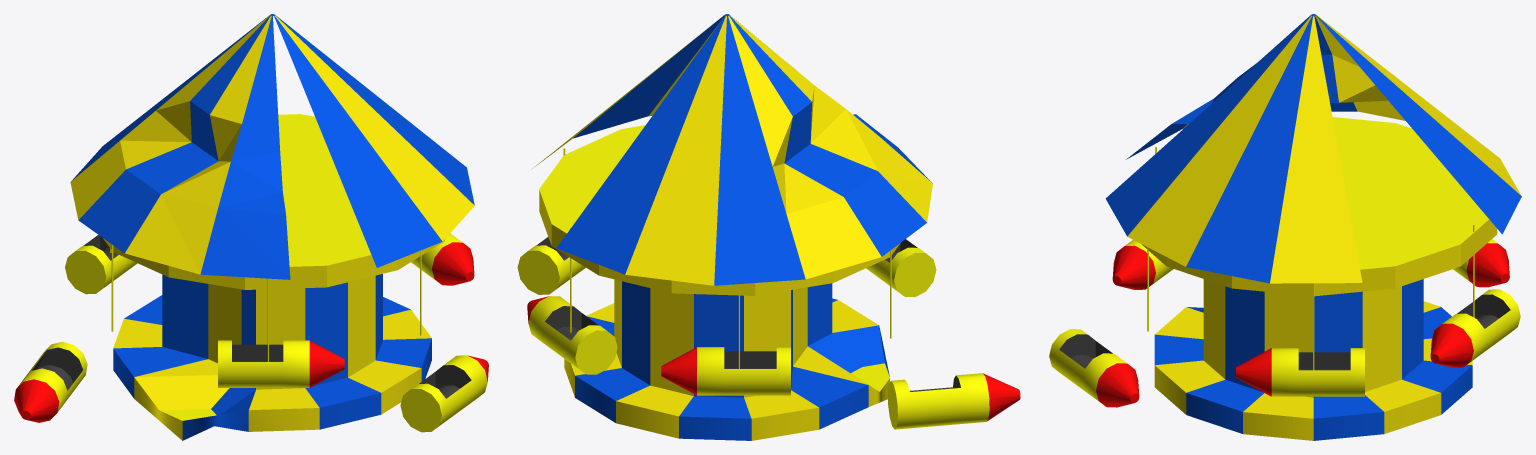
The model's file is 07 Carousel_2.FBX.
The picture shows the model from 3 angles, left to right: view 1: azimuth 30°, elevation 25°; view 2: azimuth 150°, elevation 25°; view 3: azimuth 270°, elevation 25°; orthographic projection. The views are drawn at different scales.
Visible parts, largest first — view 1: Carousel_2; view 2: Carousel_2; view 3: Carousel_2.
Part boxes in pixels (x1,y1,x2,y2): Carousel_2: [14, 14, 488, 440]; Carousel_2: [517, 14, 1020, 440]; Carousel_2: [1049, 14, 1521, 440].
Bounding box in the file's own units: 3245 × 2554 × 2899.
